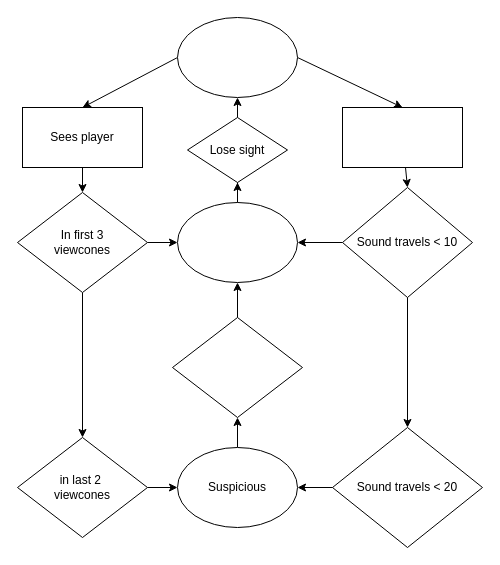
This 500x565 diagram has some shape labels left out. Each missing label, with the centre of its shape:
"Alert" belongs at (237,242).
"Hears sound (Within 10m trigger)" belongs at (402,137).
"Patrolling" belongs at (237,57).
"Suspicious for morethan 10 seconds" belongs at (237,367).
